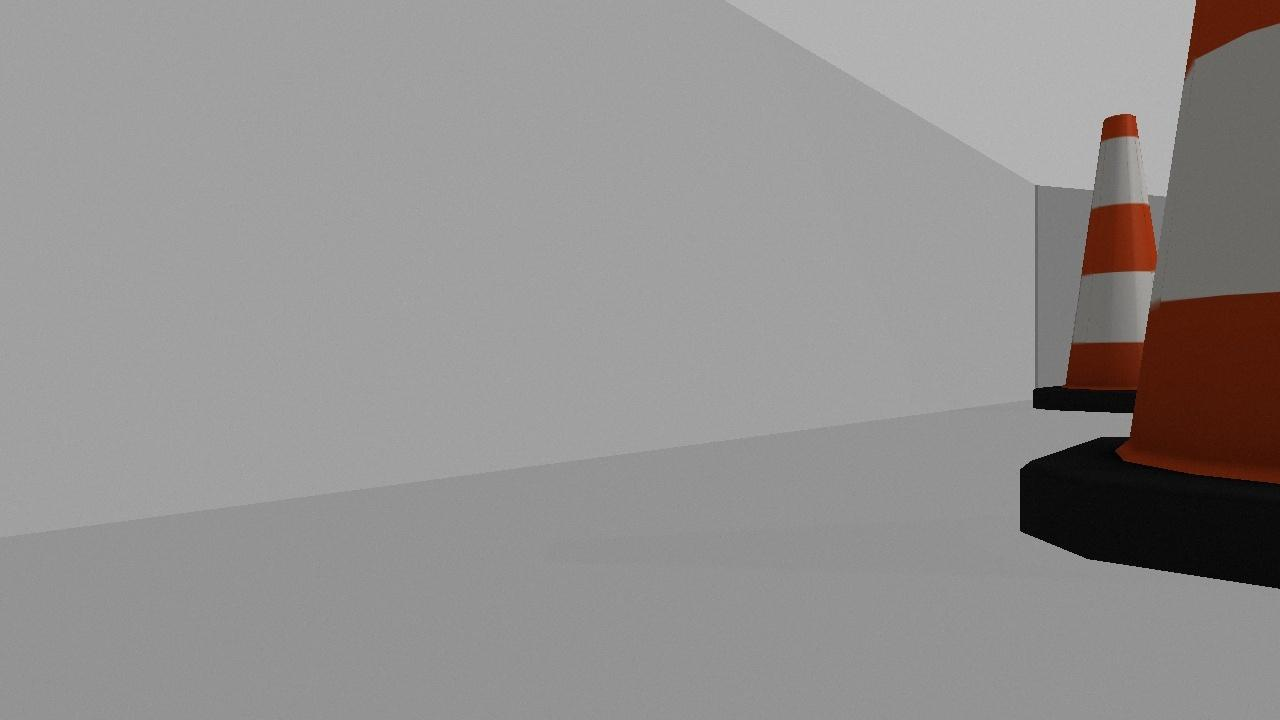cone_barrel: (1017, 0, 1279, 591), (1030, 104, 1181, 411)
